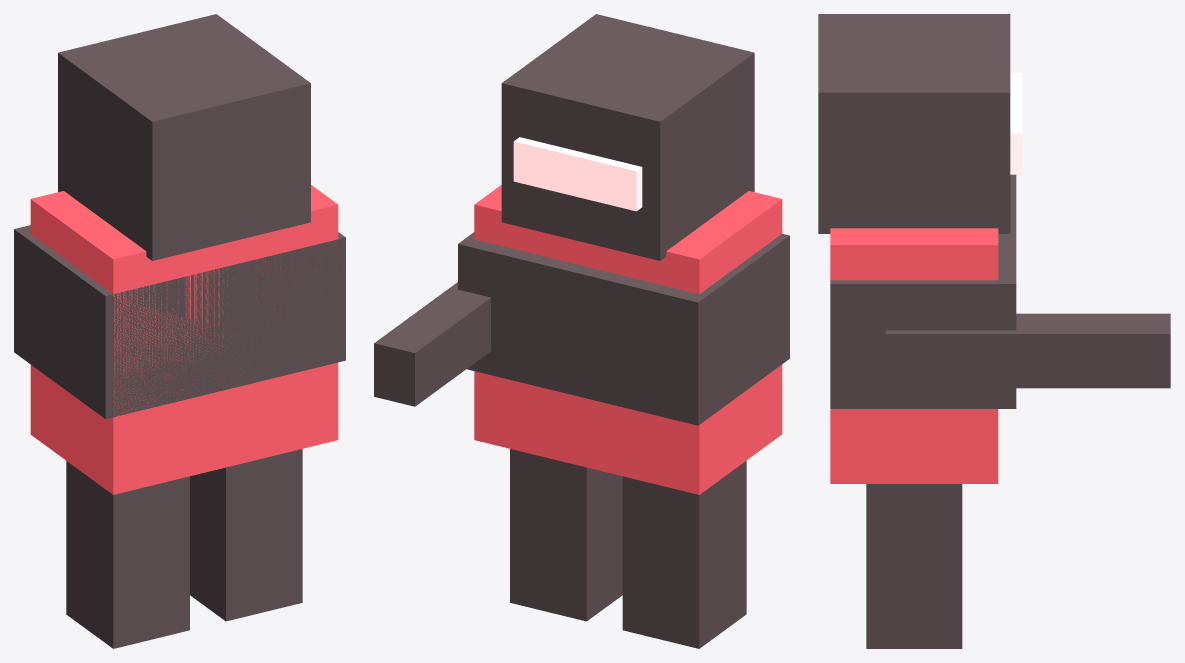
File: rifleman.glb
3 views of the same model, side by side, from view 1: azimuth 30°, elevation 25°; view 2: azimuth 150°, elevation 25°; view 3: azimuth 270°, elevation 25° (orthographic).
Visible parts, largest first — view 1: Helmet, Harness, Torso, LegL, LegR; view 2: Helmet, Harness, Torso, LegL, LegR, Carbine, OpticStrip; view 3: Helmet, Torso, Carbine, Harness, LegR, OpticStrip.
Part boxes in pixels (<box>): Helmet: <box>58,14,310,260</box>; Harness: <box>14,225,345,419</box>; Torso: <box>30,185,338,494</box>; LegL: <box>66,461,189,648</box>; LegR: <box>190,449,302,621</box>; Helmet: <box>501,14,754,260</box>; Harness: <box>458,232,789,425</box>; Torso: <box>474,185,782,494</box>; LegL: <box>622,461,746,648</box>; LegR: <box>510,449,622,621</box>; Carbine: <box>374,282,490,406</box>; OpticStrip: <box>513,137,642,211</box>; Helmet: <box>818,14,1010,233</box>; Torso: <box>830,228,998,483</box>; Carbine: <box>885,313,1170,388</box>; Harness: <box>830,174,1016,408</box>; LegR: <box>866,484,962,648</box>; OpticStrip: <box>1010,73,1022,174</box>.
Bounding box in the file's own units: 0.97 × 2.02 × 1.17.
